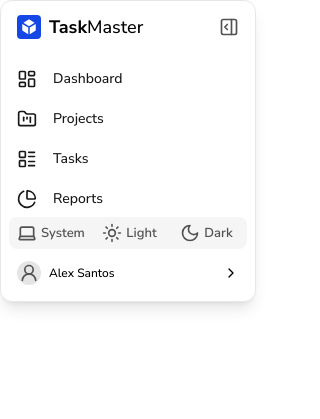
SideBarMenu › styles › should render the component correctly expanded/collapsed
The image size is (320, 419).
Expected: the number of list items is 4, x1=17 y1=69 x2=122 y2=89; x1=17 y1=109 x2=104 y2=129; x1=17 y1=149 x2=88 y2=169; x1=17 y1=189 x2=103 y2=209
Expected: the icon with test id "collapse-icon" is shown, x1=219 y1=17 x2=239 y2=37
Click the button with test id "collapse-icon" at (229, 27), box x1=211 y1=9 x2=247 y2=45
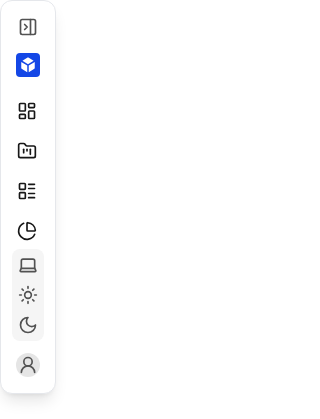
Now the icon with test id "collapse-icon" is gone
Now the icon with test id "expand-icon" is shown, box x1=18 y1=17 x2=38 y2=37
